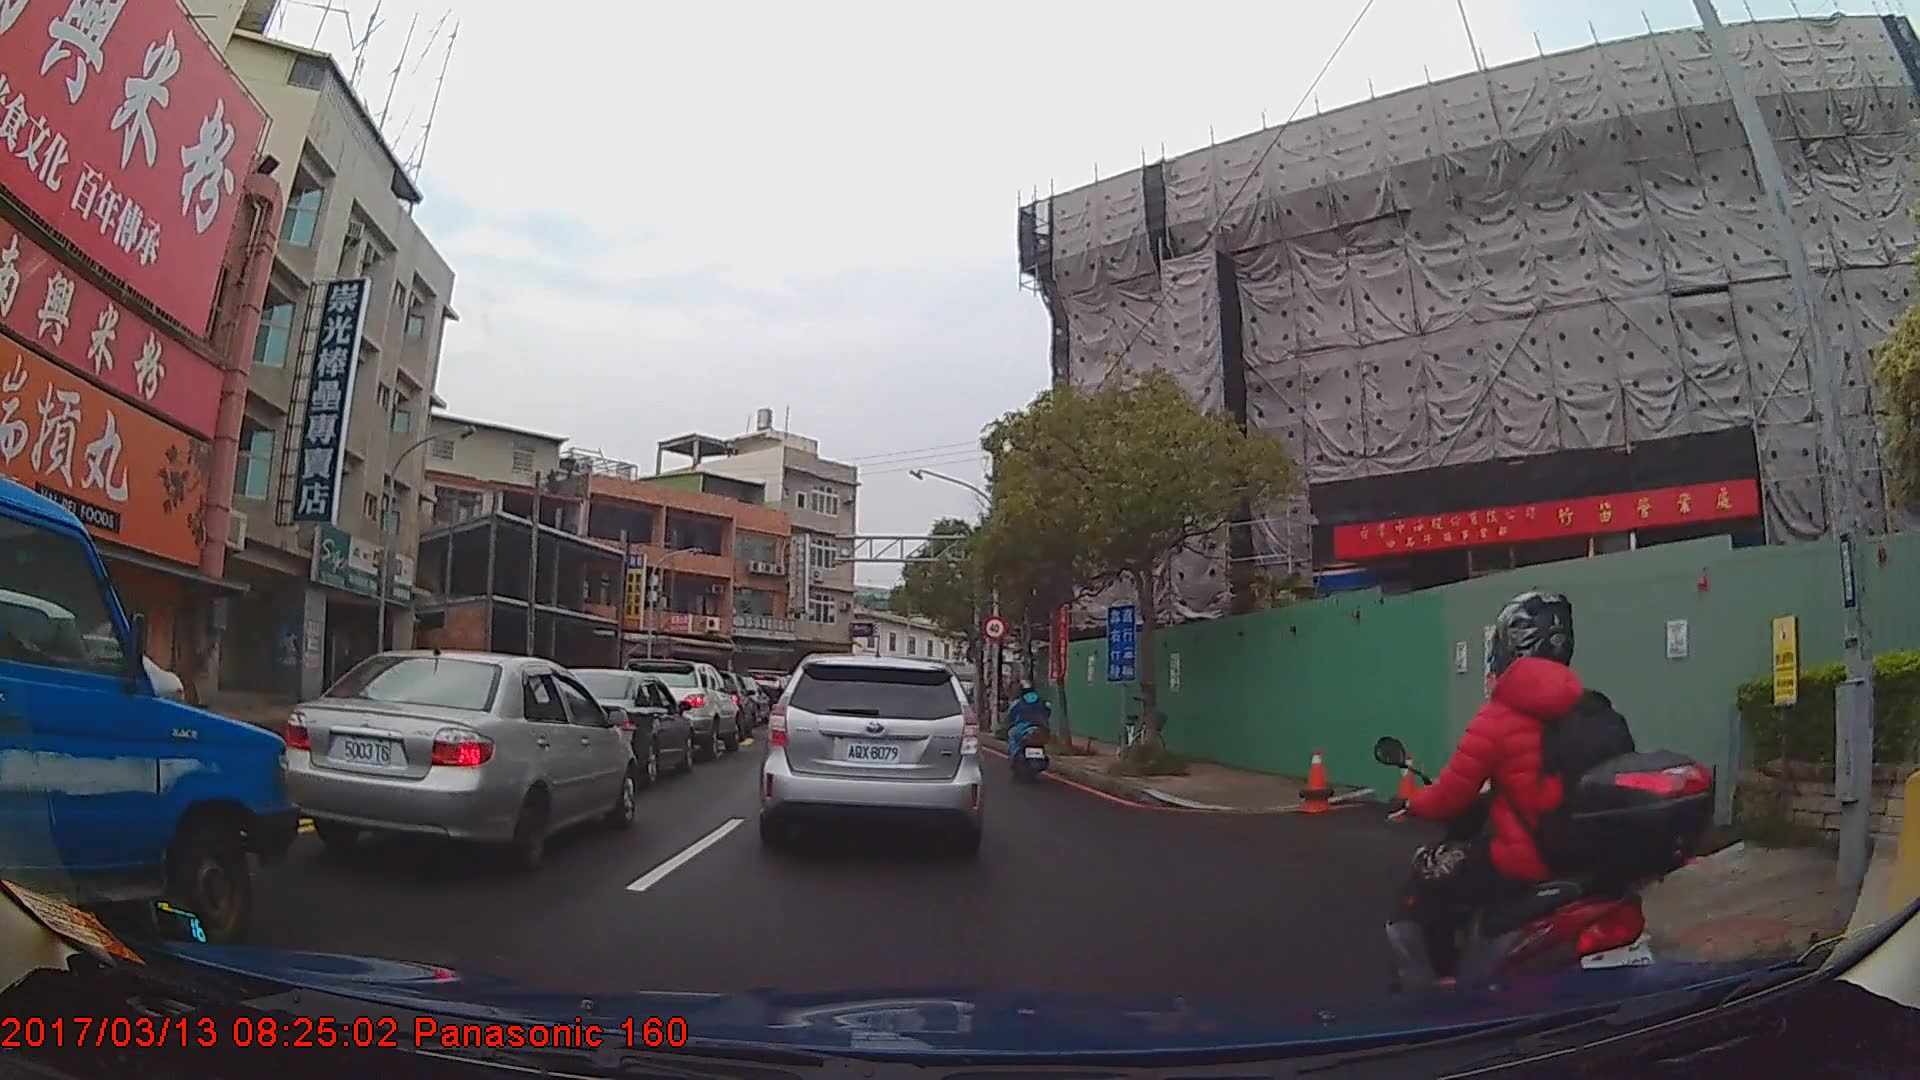rider: (1377, 584, 1720, 1061), (1003, 682, 1054, 785)
vehicle: (0, 475, 291, 965), (274, 648, 636, 874), (761, 652, 983, 853), (537, 667, 695, 785), (616, 656, 740, 761)
